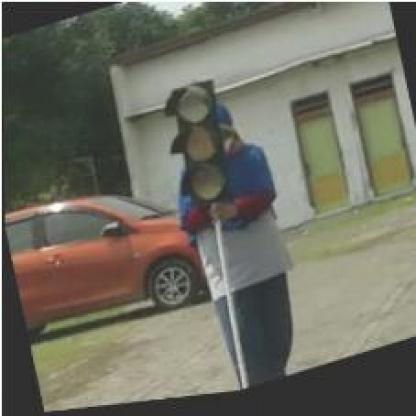yellow: (158, 81, 237, 220)
